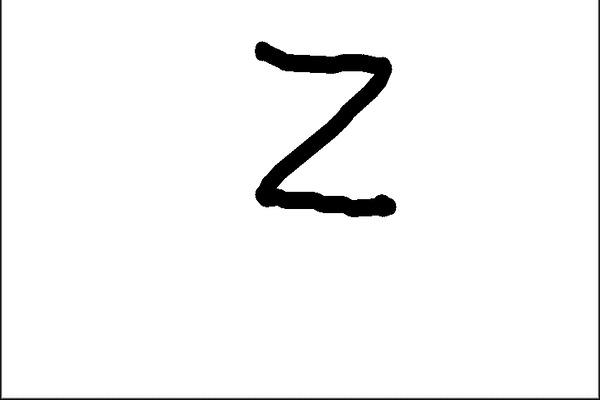Z: (242, 30, 429, 221)
